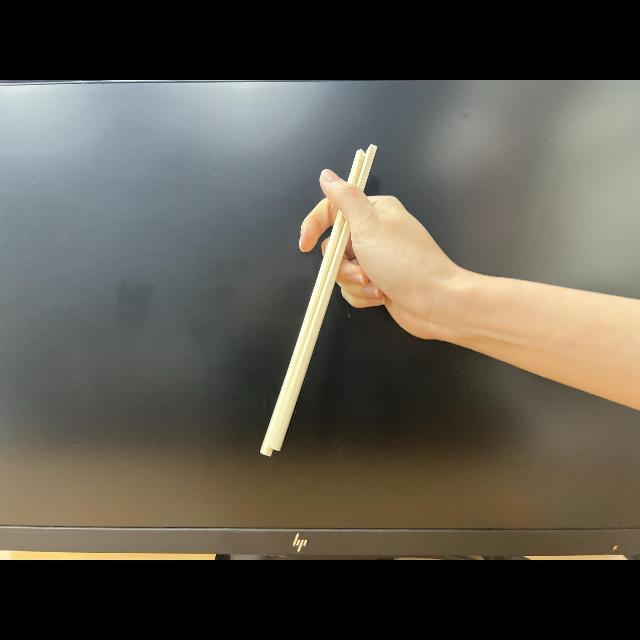stick: (258, 143, 446, 457)
